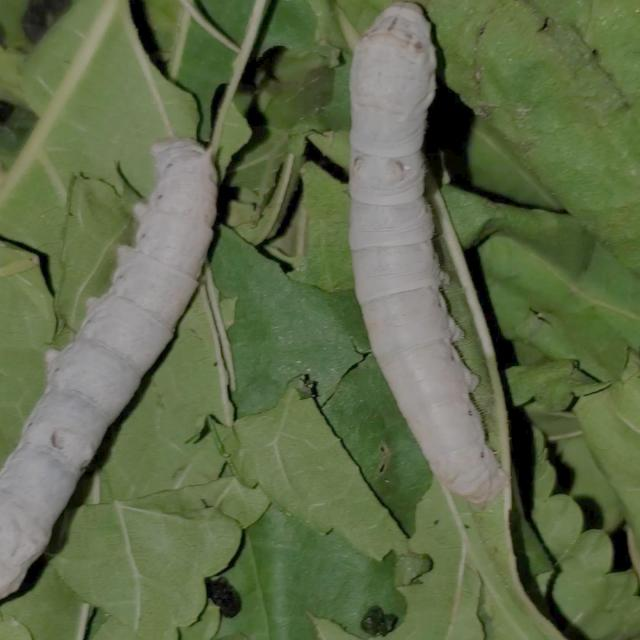Healthy: (0, 92, 237, 602), (319, 0, 536, 528)
